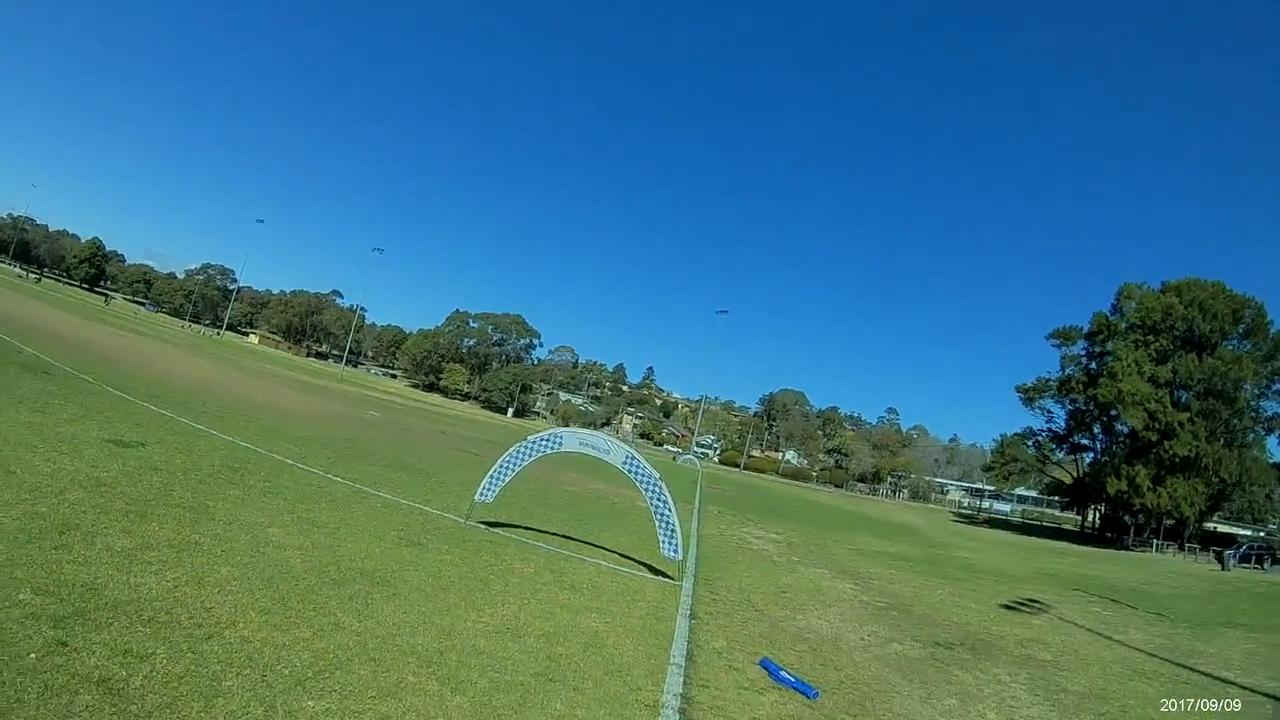gate: (476, 427, 683, 567)
